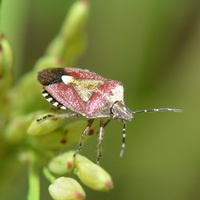insect: (37, 67, 181, 156)
